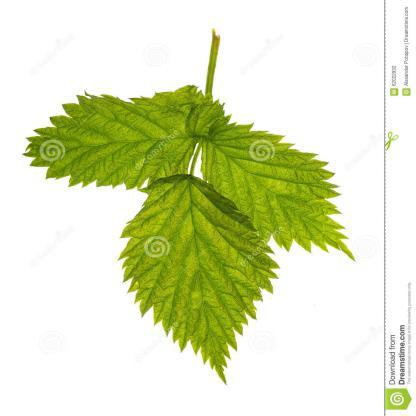Raspberry leaf: (122, 176, 278, 387), (198, 107, 356, 260), (20, 82, 224, 188)
